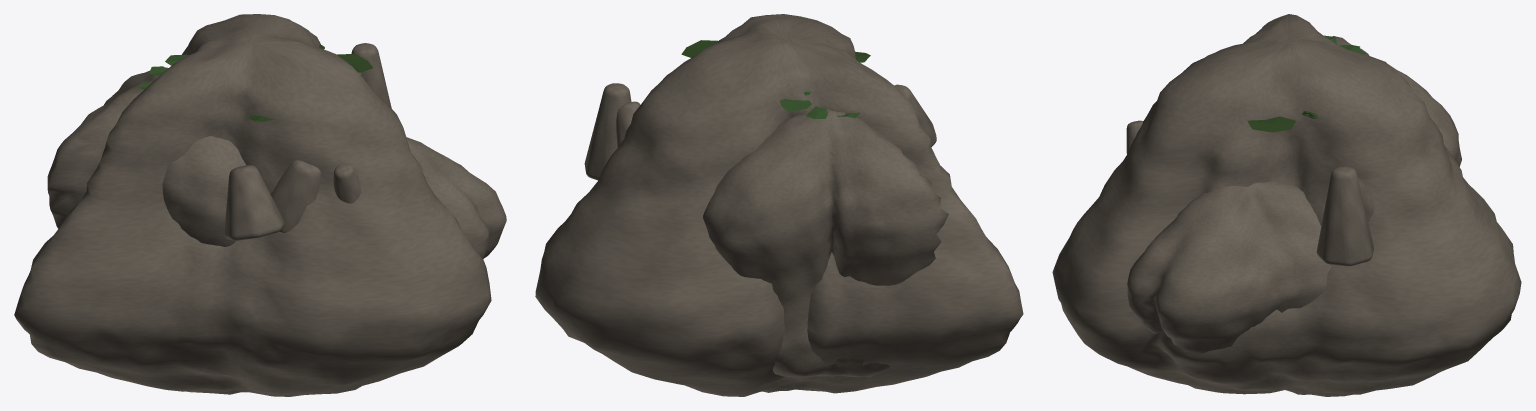
Rendered from rock_large.glb.
3 views of the same model, side by side, from view 1: azimuth 30°, elevation 25°; view 2: azimuth 150°, elevation 25°; view 3: azimuth 270°, elevation 25° (orthographic).
Visible parts, largest first — view 1: rock_large_core, rock_large_fracture, rock_large_shoulder, rock_large_shard_02, rock_large_shard_08, rock_large_shard_01, rock_large_shard_03; view 2: rock_large_core, rock_large_fracture, rock_large_shard_01, rock_large_shard_02, rock_large_shard_06; view 3: rock_large_core, rock_large_shoulder, rock_large_shard_01, rock_large_fracture, rock_large_moss_patch_01.
Boxes of the visible parts, bbox=[...] form: rock_large_core: bbox=[14, 14, 491, 396]; rock_large_fracture: bbox=[47, 67, 245, 246]; rock_large_shoulder: bbox=[406, 137, 506, 259]; rock_large_shard_02: bbox=[224, 165, 284, 240]; rock_large_shard_08: bbox=[270, 160, 321, 232]; rock_large_shard_01: bbox=[351, 43, 391, 107]; rock_large_shard_03: bbox=[333, 163, 360, 203]; rock_large_core: bbox=[535, 14, 1023, 396]; rock_large_fracture: bbox=[703, 109, 948, 377]; rock_large_shard_01: bbox=[584, 83, 631, 180]; rock_large_shard_02: bbox=[894, 84, 936, 146]; rock_large_shard_06: bbox=[616, 101, 640, 147]; rock_large_core: bbox=[1052, 14, 1521, 396]; rock_large_shoulder: bbox=[1127, 181, 1331, 353]; rock_large_shard_01: bbox=[1316, 166, 1373, 266]; rock_large_fracture: bbox=[1332, 36, 1461, 166]; rock_large_moss_patch_01: bbox=[1247, 116, 1296, 132].
Size of the model in its own units: 0.9291 by 0.7067 by 0.8765.
3 materials, 3 textured.
